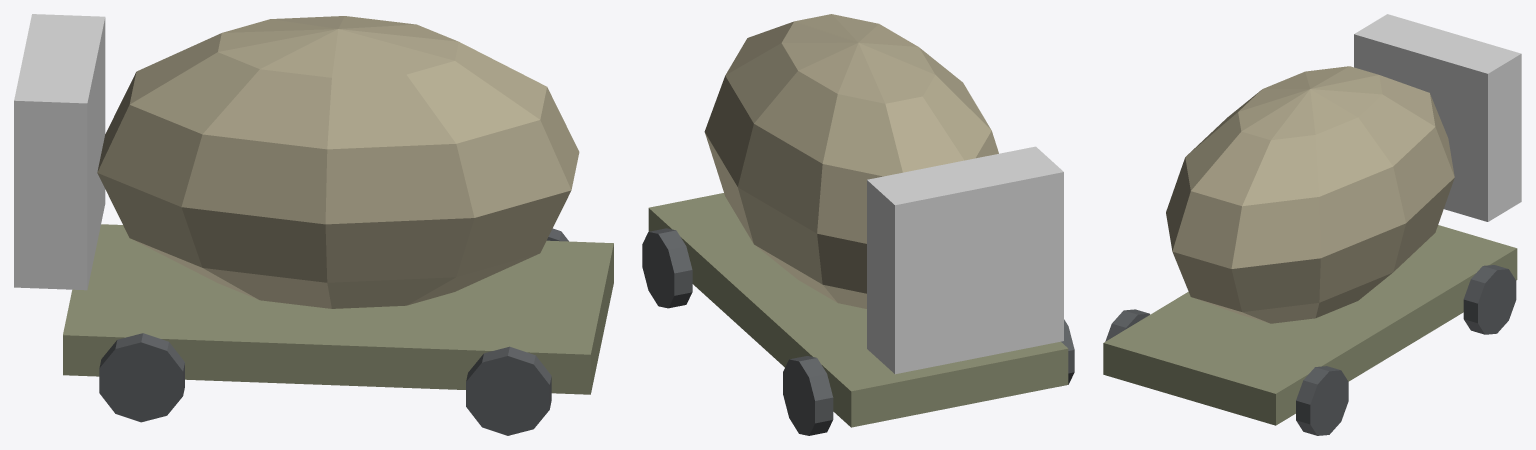
Rendered from atomic-bomb.glb.
3 renders of one model, left to right at view 1: azimuth 30°, elevation 25°; view 2: azimuth 150°, elevation 25°; view 3: azimuth 270°, elevation 25°, orthographic. The views are drawn at different scales.
Parts seen in each view (by area): view 1: LOD0; view 2: LOD0; view 3: LOD0.
Part boxes in pixels (x1,y1,x2,y2): LOD0: (14, 14, 613, 435); LOD0: (642, 14, 1074, 435); LOD0: (1103, 14, 1521, 435).
Size of what is drawn, in the model's own units: 0.8307 by 0.5 by 0.7153.
